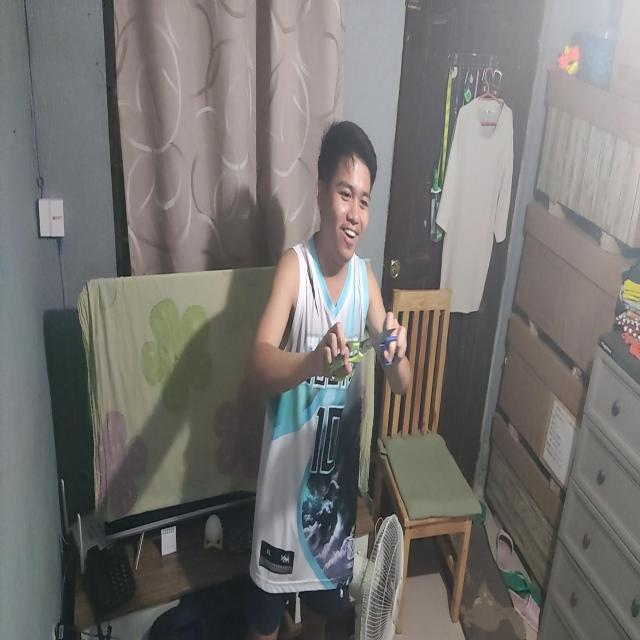scissor: (326, 327, 398, 385), (360, 317, 401, 373)
